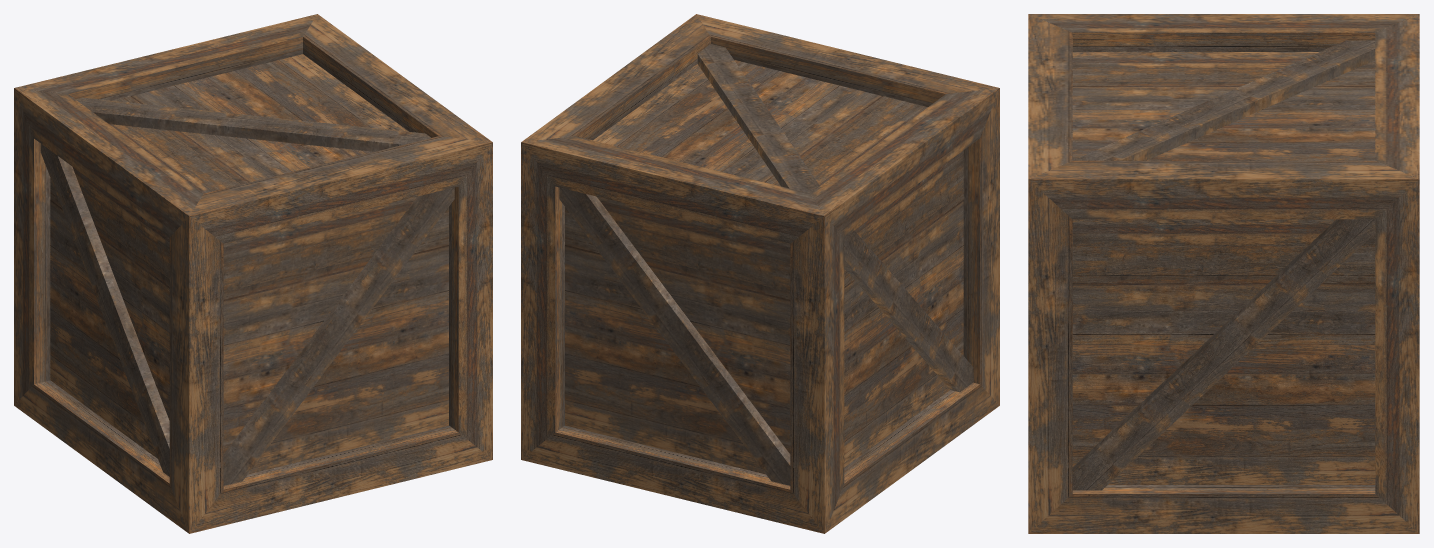
The picture shows the model from 3 angles, left to right: view 1: azimuth 30°, elevation 25°; view 2: azimuth 150°, elevation 25°; view 3: azimuth 270°, elevation 25°; orthographic projection. The views are drawn at different scales.
Visible parts, largest first — view 1: Box; view 2: Box; view 3: Box.
Part boxes in pixels (<box>): Box: <box>14,14,492,533</box>; Box: <box>521,14,999,533</box>; Box: <box>1028,14,1419,533</box>.
Bounding box in the file's own units: 2 × 2 × 2.
1 material, 1 textured.
